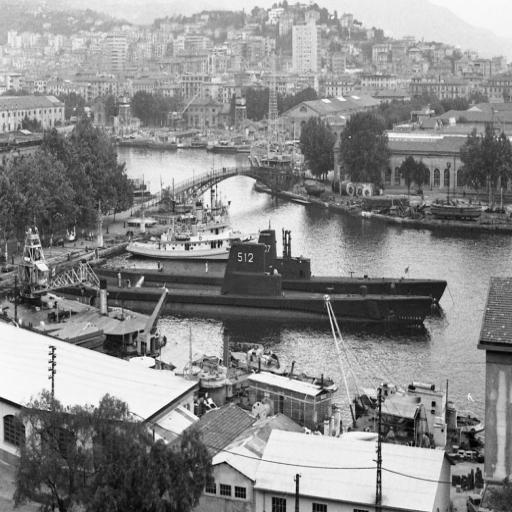submarine: (87, 241, 434, 329), (87, 228, 441, 304)
